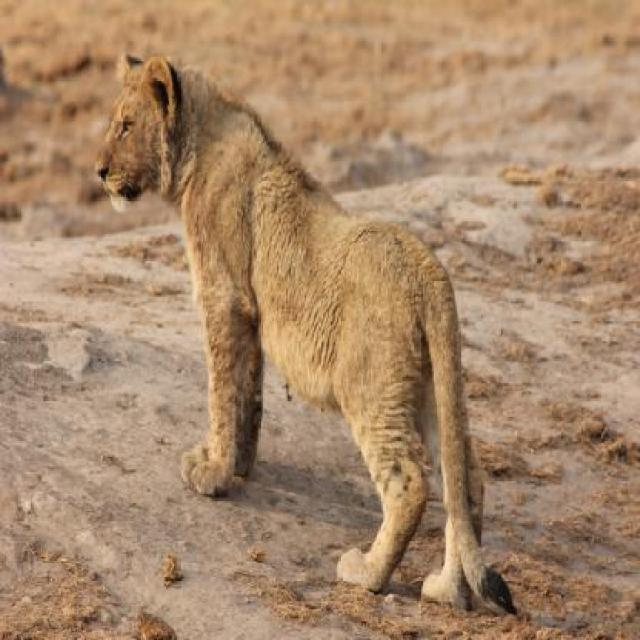Lion: (80, 35, 517, 612)
